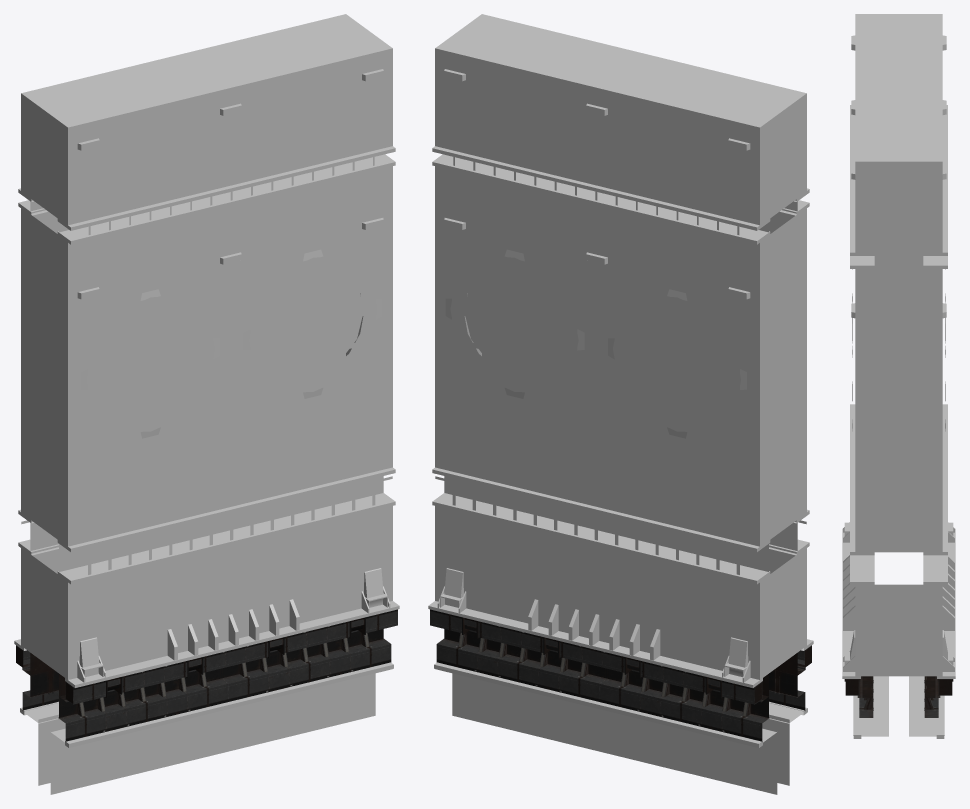
Rendered from Wall_Large_09_phys.fbx.
3 views of the same model, side by side, from view 1: azimuth 30°, elevation 25°; view 2: azimuth 150°, elevation 25°; view 3: azimuth 270°, elevation 25° (orthographic). The views are drawn at different scales.
Visible parts, largest first — view 1: Wall_Large_09_phys; view 2: Wall_Large_09_phys; view 3: Wall_Large_09_phys.
Part boxes in pixels (x1,y1,x2,y2): Wall_Large_09_phys: (14,14,399,794); Wall_Large_09_phys: (428,14,813,794); Wall_Large_09_phys: (842,14,955,738).
Bounding box in the file's own units: 1604 × 3200 × 518.
